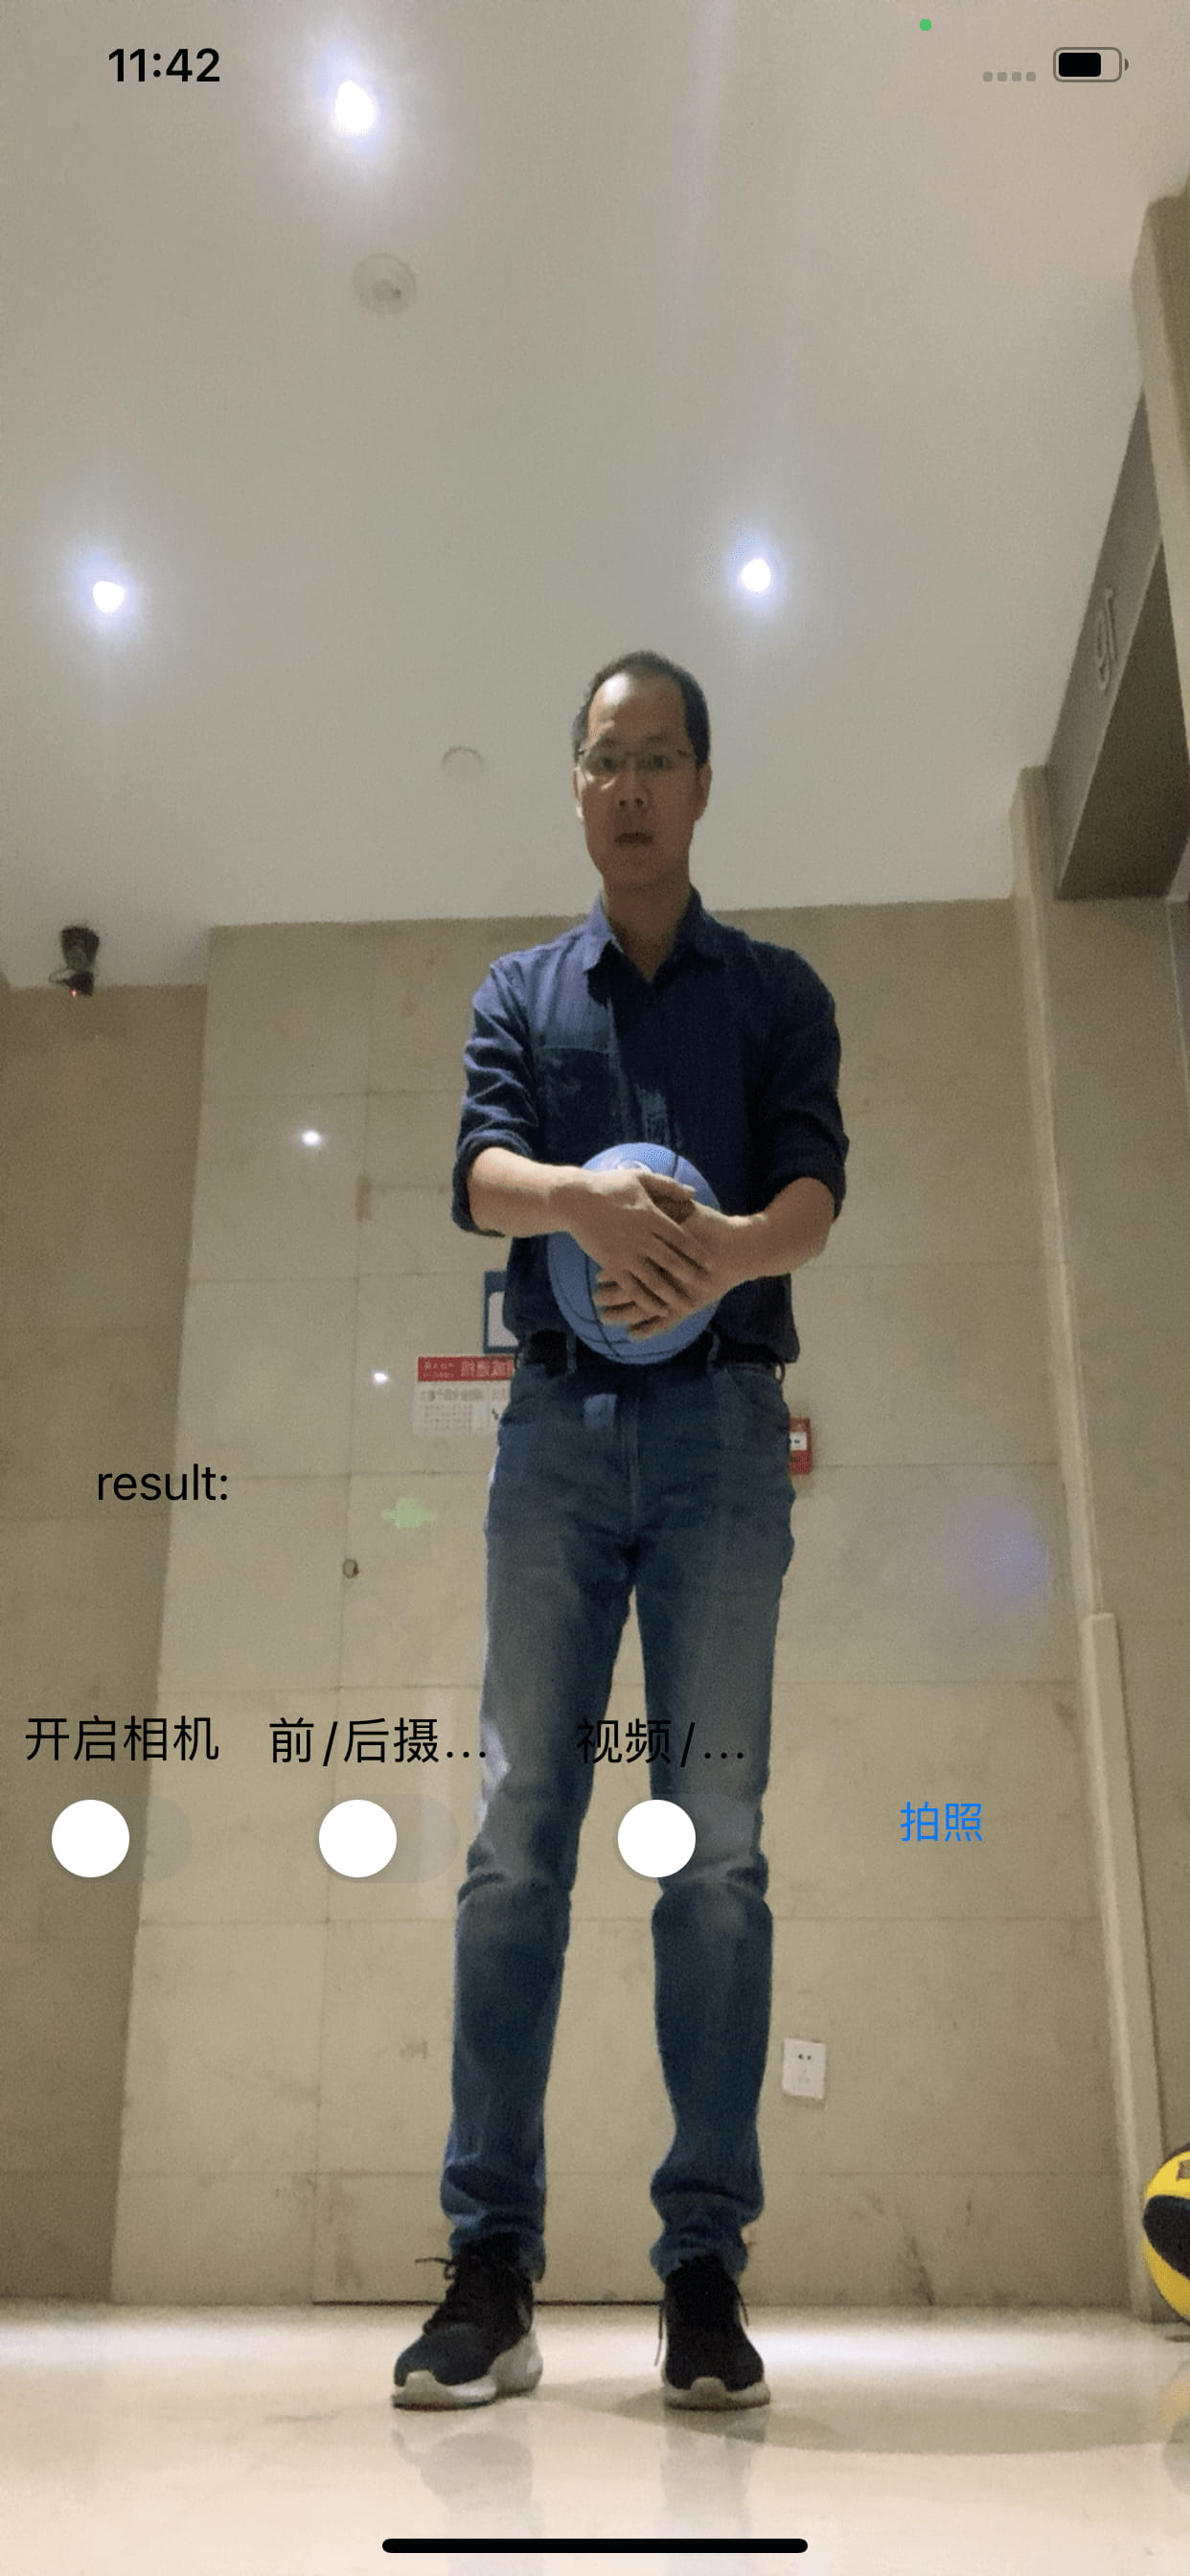ball: (542, 1140, 723, 1367)
